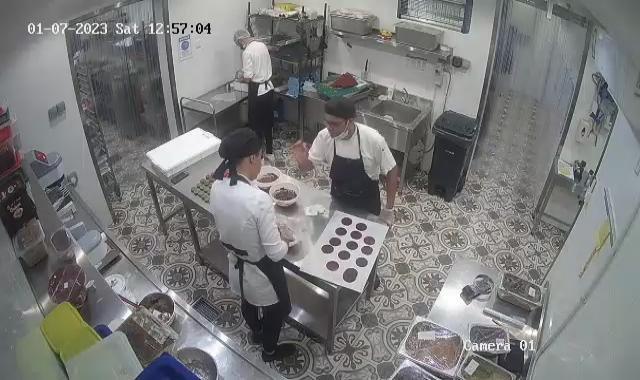hairnet: (232, 27, 252, 45)
no_hairnet: (218, 130, 262, 164), (322, 98, 357, 128)
